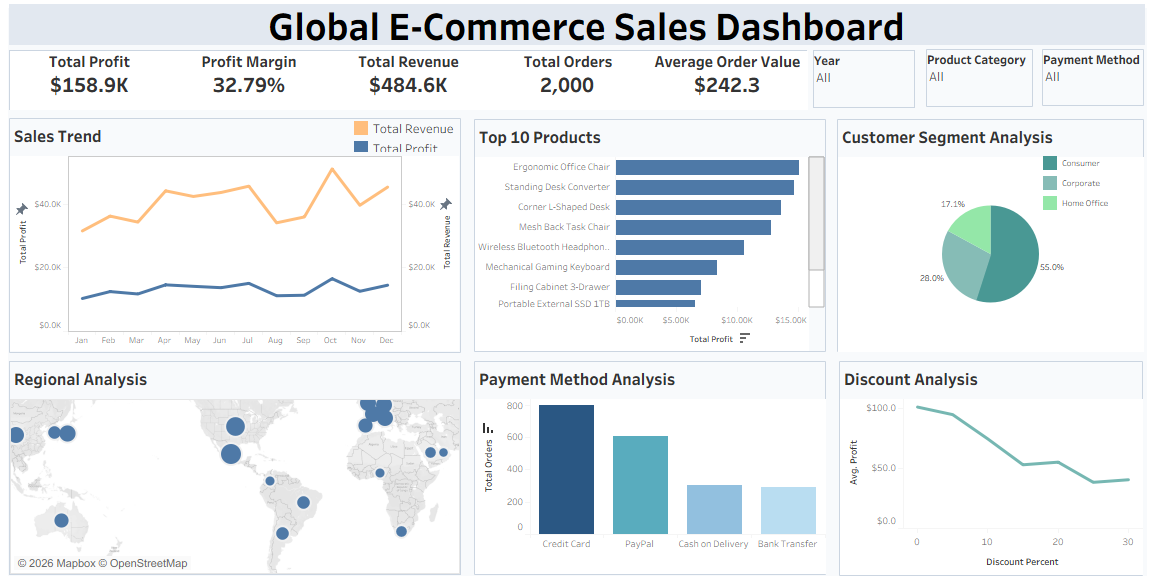

The dashboard page shown, as its layout file describes it:
{"tool":"tableau","page":{"name":"Global E-Commerce Sales Dashboard","canvas":[1000,1000],"units":"permille","ordinal":0},"visuals":[{"type":"blank","box":[8,7.5,983,68.8]},{"type":"text","box":[10,12.5,995,58.8]},{"type":"filter","title":"Top 10 Products","param":"[federated.0kj0anb1od557012va9iv0f9lb6p].[none:Product_Category:nk]","box":[801.9,83.9,92.8,99.3]},{"type":"filter","title":"Payment Method Analysis","param":"[federated.0kj0anb1od557012va9iv0f9lb6p].[none:Payment_Method:nk]","box":[902.2,83.9,88.5,97.6]},{"type":"worksheet","title":"KPIs","mark":"Automatic","box":[7.6,85.6,691.4,102.7]},{"type":"filter","title":"Sales Trend","param":"[federated.0kj0anb1od557012va9iv0f9lb6p].[yr:Order_Date:ok]","box":[704.1,85.6,88.5,99.3]},{"type":"worksheet","title":"Sales Trend","mark":"Line","rows":["Calculation_0085780522123268","Calculation_0085780519825408"],"cols":["Order_Date"],"box":[7.8,202.1,391.3,402.4]},{"type":"legend","title":"Sales Trend","param":"[federated.0kj0anb1od557012va9iv0f9lb6p].[:Measure Names]","box":[303.9,202.1,108.2,58.2]},{"type":"worksheet","title":"Top 10 Products","mark":"Automatic","rows":["Product_Name"],"cols":["Calculation_0085780522123268"],"box":[410.4,203.8,304.8,399]},{"type":"worksheet","title":"Customer Segment Analysis","mark":"Pie","box":[724.7,203.8,265.8,399]},{"type":"legend","title":"Regional Analysis","param":"[federated.0kj0anb1od557012va9iv0f9lb6p].[usr:Calculation_0085780523114502:qk]","box":[217.5,205.5,118.9,46.2]},{"type":"worksheet","title":"Regional Analysis","mark":"Automatic","box":[7.8,618.1,391.3,366.4]},{"type":"worksheet","title":"Payment Method Analysis","mark":"Bar","rows":["Calculation_0085780521684994"],"cols":["Payment_Method"],"box":[410.4,618.1,304.8,366.4]},{"type":"worksheet","title":"Discount Analysis","mark":"Line","rows":["Profit"],"cols":["Discount_Percent"],"box":[726.4,618.1,263.2,368.2]}]}

Visuals, with their boxes on the dashboard's canvas, which has no fixed pixel size, in thousandths of its width and height (x1, y1, x2, y2). These are canvas units, not pixel positions in the 1155x584 screenshot, which may show the page scaled, cropped or inside an application window:
blank: 8, 8, 991, 76
text: 10, 12, 1005, 71
"Top 10 Products" filter: 802, 84, 895, 183
"Payment Method Analysis" filter: 902, 84, 991, 182
"KPIs" worksheet: 8, 86, 699, 188
"Sales Trend" filter: 704, 86, 793, 185
"Sales Trend" worksheet (Line marks): 8, 202, 399, 604
"Sales Trend" legend: 304, 202, 412, 260
"Top 10 Products" worksheet: 410, 204, 715, 603
"Customer Segment Analysis" worksheet (Pie marks): 725, 204, 990, 603
"Regional Analysis" legend: 218, 206, 336, 252
"Regional Analysis" worksheet: 8, 618, 399, 984
"Payment Method Analysis" worksheet (Bar marks): 410, 618, 715, 984
"Discount Analysis" worksheet (Line marks): 726, 618, 990, 986
